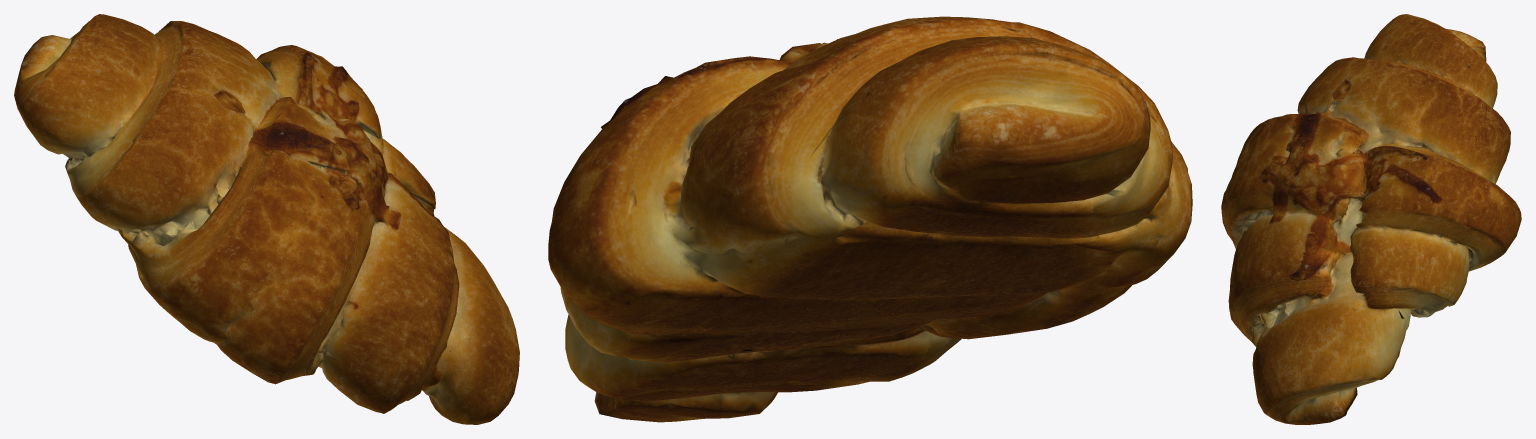
File: 1741233965233-croissant_scan_low_poly (1).glb
3 renders of one model, left to right at view 1: azimuth 30°, elevation 25°; view 2: azimuth 150°, elevation 25°; view 3: azimuth 270°, elevation 25°, orthographic. The views are drawn at different scales.
Visible parts, largest first — view 1: Model; view 2: Model; view 3: Model.
Boxes of the visible parts, x1,y1,x2,y2 form: Model: [14, 14, 519, 424]; Model: [548, 16, 1192, 422]; Model: [1221, 14, 1521, 424].
Size of the model in its own units: 0.1559 by 0.1361 by 0.1267.
Materials: 1 (1 with a texture image).
